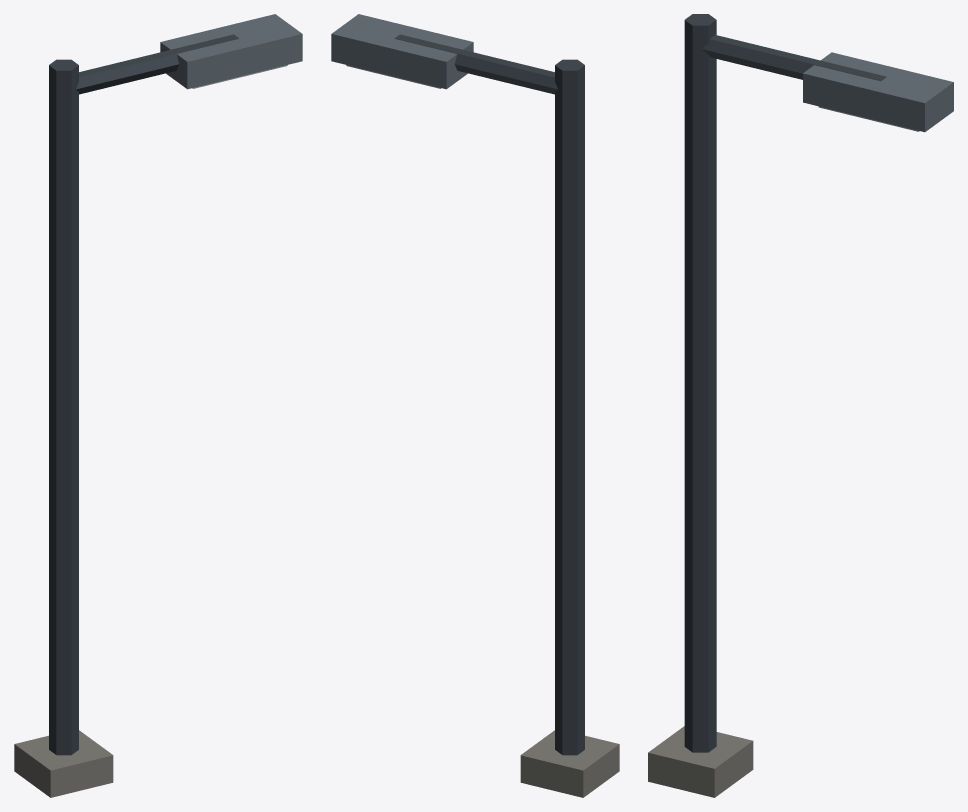
Rendered from env_lamp_post.fbx.
The picture shows the model from 3 angles, left to right: view 1: azimuth 30°, elevation 25°; view 2: azimuth 150°, elevation 25°; view 3: azimuth 330°, elevation 25°; orthographic projection. The views are drawn at different scales.
Visible parts, largest first — view 1: env_lamp_post; view 2: env_lamp_post; view 3: env_lamp_post.
Part boxes in pixels (box(x1,y1,x2,y2)): env_lamp_post: box(14, 14, 302, 797); env_lamp_post: box(331, 14, 619, 797); env_lamp_post: box(648, 14, 953, 797).
Size of the model in its own units: 490 by 1300 by 120.
